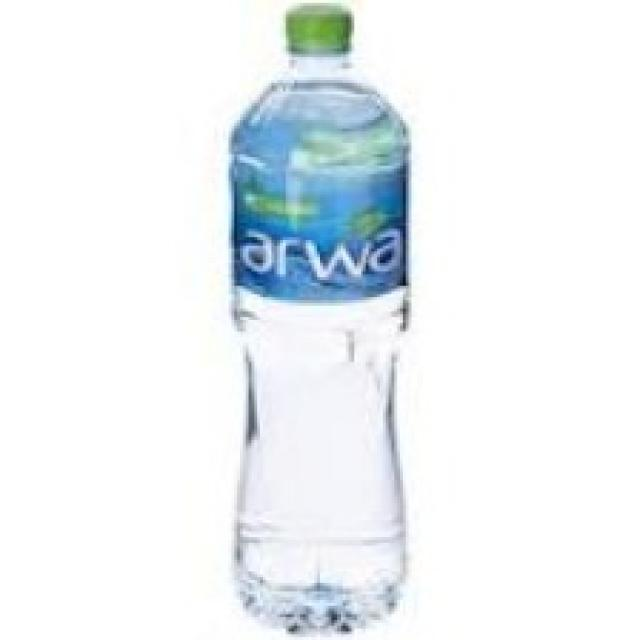plastic_bottle: (223, 7, 407, 640)
